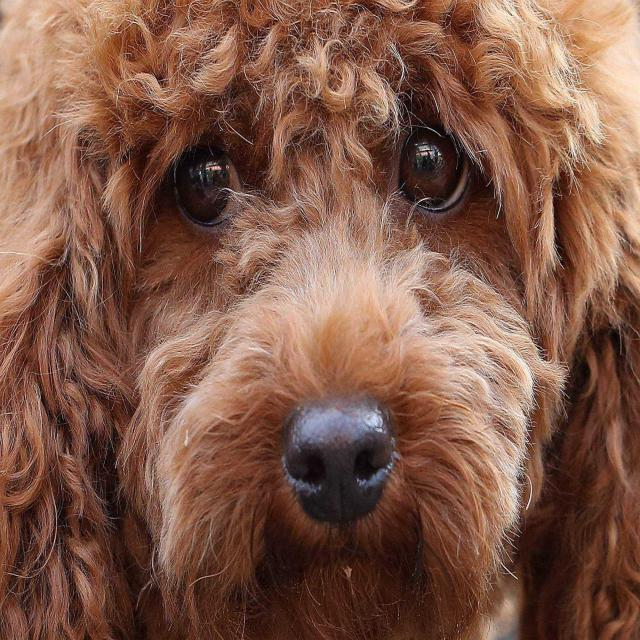eye: (391, 117, 479, 219), (165, 135, 249, 238)
